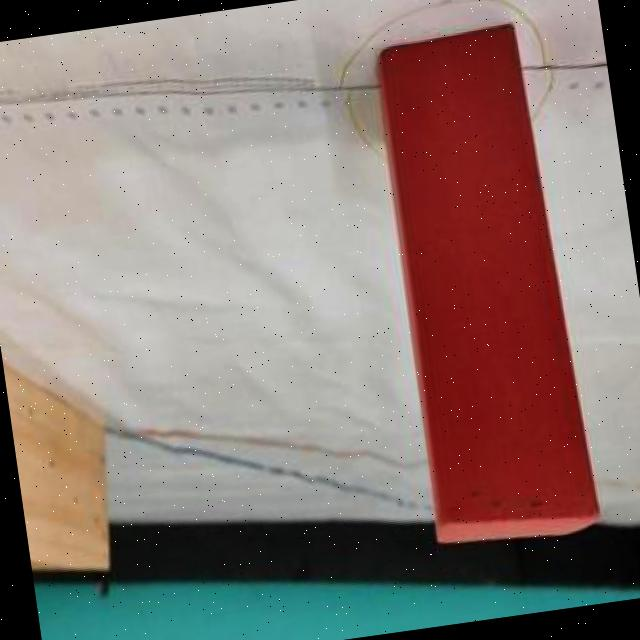redbox: (369, 22, 604, 556)
